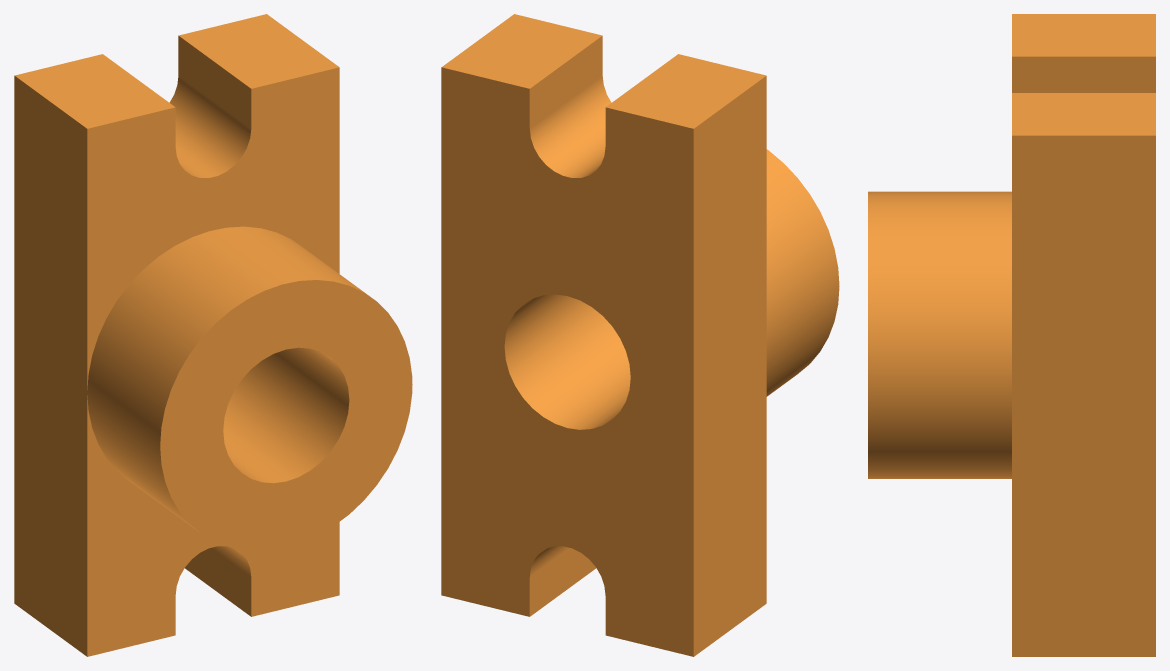
File: model_plain.glb
The picture shows the model from 3 angles, left to right: view 1: azimuth 30°, elevation 25°; view 2: azimuth 150°, elevation 25°; view 3: azimuth 270°, elevation 25°; orthographic projection.
Visible parts, largest first — view 1: 测试件.SLDPRT; view 2: 测试件.SLDPRT; view 3: 测试件.SLDPRT.
Boxes of the visible parts, x1,y1,x2,y2 form: 测试件.SLDPRT: (14,14,412,656); 测试件.SLDPRT: (441,14,839,656); 测试件.SLDPRT: (868,14,1155,656).
Bounding box in the file's own units: 0.01 × 0.02 × 0.01.
